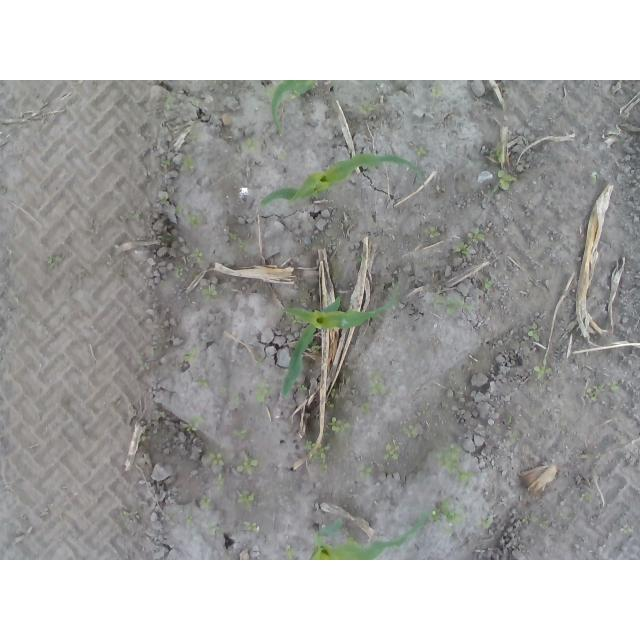Maize: (279, 289, 398, 396), (259, 154, 425, 206), (307, 516, 432, 560), (269, 80, 319, 138)
Weeds: (435, 442, 477, 481), (427, 494, 465, 536), (301, 433, 331, 476), (432, 294, 475, 318), (590, 385, 622, 402), (327, 417, 354, 435), (496, 168, 516, 192), (383, 440, 402, 465), (367, 370, 386, 395), (237, 458, 260, 478), (534, 358, 553, 381), (201, 285, 220, 305), (187, 208, 204, 229), (468, 226, 488, 243), (207, 447, 225, 465), (183, 416, 202, 433), (240, 137, 257, 156), (254, 383, 271, 402), (527, 320, 541, 342), (453, 240, 472, 256), (182, 343, 199, 360), (238, 489, 255, 506), (356, 462, 372, 480), (400, 424, 417, 440), (358, 103, 376, 116), (232, 429, 249, 442), (482, 513, 495, 530), (181, 154, 194, 170), (619, 523, 633, 536), (286, 545, 298, 560), (428, 224, 439, 240), (192, 377, 208, 388), (432, 87, 448, 98), (48, 255, 65, 265), (277, 150, 290, 163), (231, 395, 242, 409), (482, 278, 494, 290), (216, 473, 225, 489), (202, 494, 211, 510), (244, 521, 257, 532), (192, 248, 205, 259), (228, 232, 239, 245), (175, 266, 186, 278), (360, 404, 371, 416), (417, 146, 428, 157), (238, 239, 250, 249), (160, 159, 173, 168), (590, 173, 599, 184), (421, 407, 430, 417), (330, 387, 338, 398), (522, 514, 530, 525), (582, 494, 593, 502), (184, 516, 193, 525), (175, 207, 184, 216), (347, 537, 357, 545), (325, 400, 335, 408), (504, 415, 512, 424), (299, 385, 309, 392), (161, 196, 168, 205)
